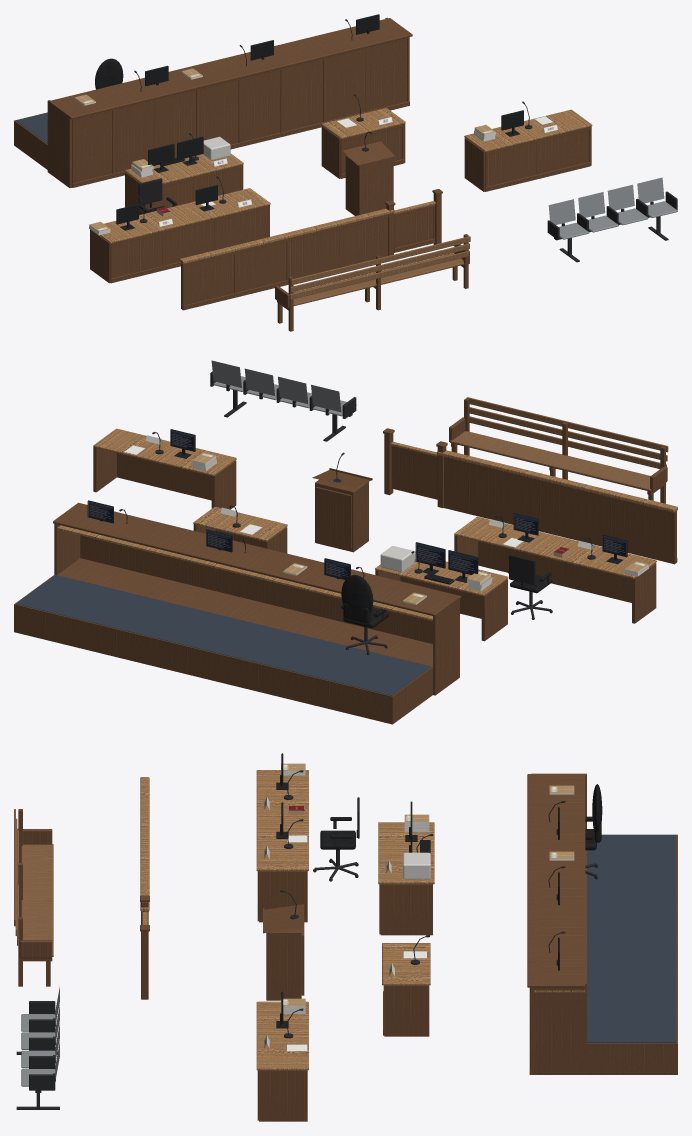
File: court_props.glb
3 views of the same model, one above another, from view 1: azimuth 30°, elevation 25°; view 2: azimuth 150°, elevation 25°; view 3: azimuth 270°, elevation 25° (orthographic). The views are drawn at different scales.
Parts seen in each view (by area): view 1: CT_BENCH_front, CT_RAIL_body, CT_TABLE_DEF_t_body, CT_TABLE_PROS_t_body, CT_BENCH_platform, CT_PEW_wood, CT_WAIT_SEATS_shell, CT_STAND_body, CT_TABLE_DEF_t_top, CT_CLERK_t_body, CT_INTERP_t_body, CT_TABLE_PROS_t_top (+15 smaller); view 2: CT_BENCH_platform, CT_BENCH_front, CT_BENCH_carpet, CT_RAIL_body, CT_PEW_wood, CT_TABLE_DEF_t_body, CT_TABLE_PROS_t_body, CT_TABLE_DEF_t_top, CT_WAIT_SEATS_shell, CT_TABLE_PROS_t_top, CT_CLERK_t_body, CT_STAND_body (+17 smaller); view 3: CT_BENCH_carpet, CT_BENCH_front, CT_BENCH_platform, CT_TABLE_DEF_t_top, CT_PEW_wood, CT_STAND_body, CT_TABLE_PROS_t_top, CT_CLERK_t_body, CT_TABLE_PROS_t_body, CT_INTERP_t_body, CT_CLERK_t_top, CT_WAIT_SEATS_frame (+12 smaller).
Boxes of the visible parts, left/top/right/bottom form: CT_BENCH_front: left=47, top=17, right=412, bottom=187; CT_RAIL_body: left=181, top=214, right=388, bottom=310; CT_TABLE_DEF_t_body: left=90, top=205, right=269, bottom=283; CT_TABLE_PROS_t_body: left=464, top=126, right=591, bottom=191; CT_BENCH_platform: left=14, top=81, right=407, bottom=182; CT_PEW_wood: left=289, top=236, right=470, bottom=305; CT_WAIT_SEATS_shell: left=548, top=177, right=677, bottom=239; CT_STAND_body: left=343, top=141, right=396, bottom=215; CT_TABLE_DEF_t_top: left=99, top=188, right=270, bottom=243; CT_CLERK_t_body: left=125, top=164, right=243, bottom=214; CT_INTERP_t_body: left=321, top=123, right=405, bottom=178; CT_TABLE_PROS_t_top: left=464, top=109, right=592, bottom=152; CT_BENCH_platform: left=14, top=558, right=432, bottom=724; CT_BENCH_front: left=53, top=502, right=461, bottom=695; CT_BENCH_carpet: left=16, top=574, right=431, bottom=695; CT_RAIL_body: left=444, top=456, right=677, bottom=564; CT_PEW_wood: left=450, top=397, right=668, bottom=491; CT_TABLE_DEF_t_body: left=454, top=535, right=656, bottom=623; CT_TABLE_PROS_t_body: left=93, top=447, right=236, bottom=509; CT_TABLE_DEF_t_top: left=454, top=516, right=656, bottom=578; CT_WAIT_SEATS_shell: left=211, top=360, right=356, bottom=416; CT_TABLE_PROS_t_top: left=93, top=428, right=236, bottom=476; CT_CLERK_t_body: left=375, top=570, right=507, bottom=641; CT_STAND_body: left=312, top=468, right=372, bottom=552; CT_BENCH_carpet: left=587, top=834, right=676, bottom=1042; CT_BENCH_front: left=527, top=773, right=586, bottom=1074; CT_BENCH_platform: left=531, top=834, right=677, bottom=1074; CT_TABLE_DEF_t_top: left=256, top=770, right=308, bottom=871; CT_PEW_wood: left=14, top=809, right=53, bottom=956; CT_STAND_body: left=263, top=904, right=303, bottom=1000; CT_TABLE_PROS_t_top: left=256, top=1001, right=308, bottom=1070; CT_CLERK_t_body: left=379, top=884, right=432, bottom=935; CT_TABLE_PROS_t_body: left=257, top=1070, right=307, bottom=1121; CT_INTERP_t_body: left=383, top=985, right=429, bottom=1036; CT_CLERK_t_top: left=378, top=822, right=434, bottom=884; CT_WAIT_SEATS_frame: left=16, top=1001, right=59, bottom=1109.
Size of the model in its own units: 9.19 by 1.71 by 8.6.
Materials: 11 (5 with a texture image).
